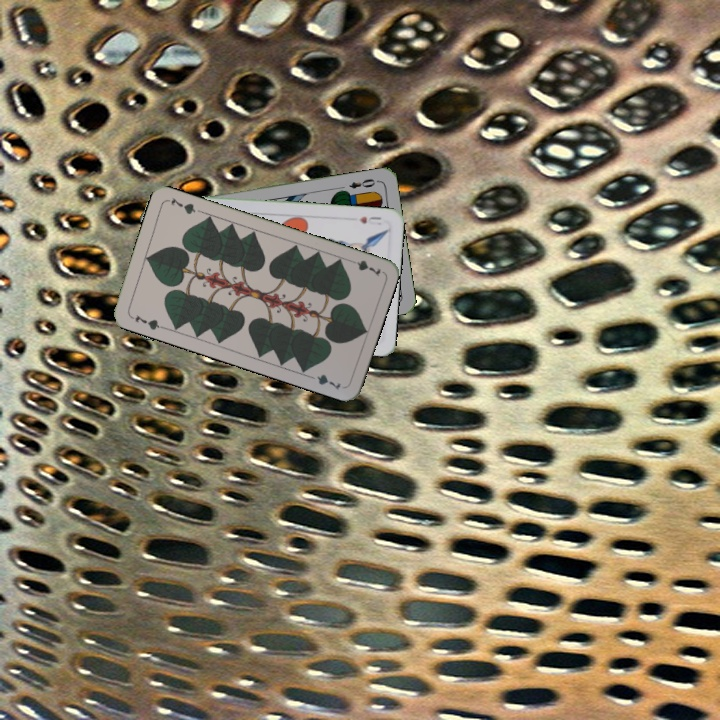EO: (345, 175, 378, 191)
G7: (344, 255, 384, 278), (127, 311, 166, 333)
HU: (355, 212, 384, 228)
